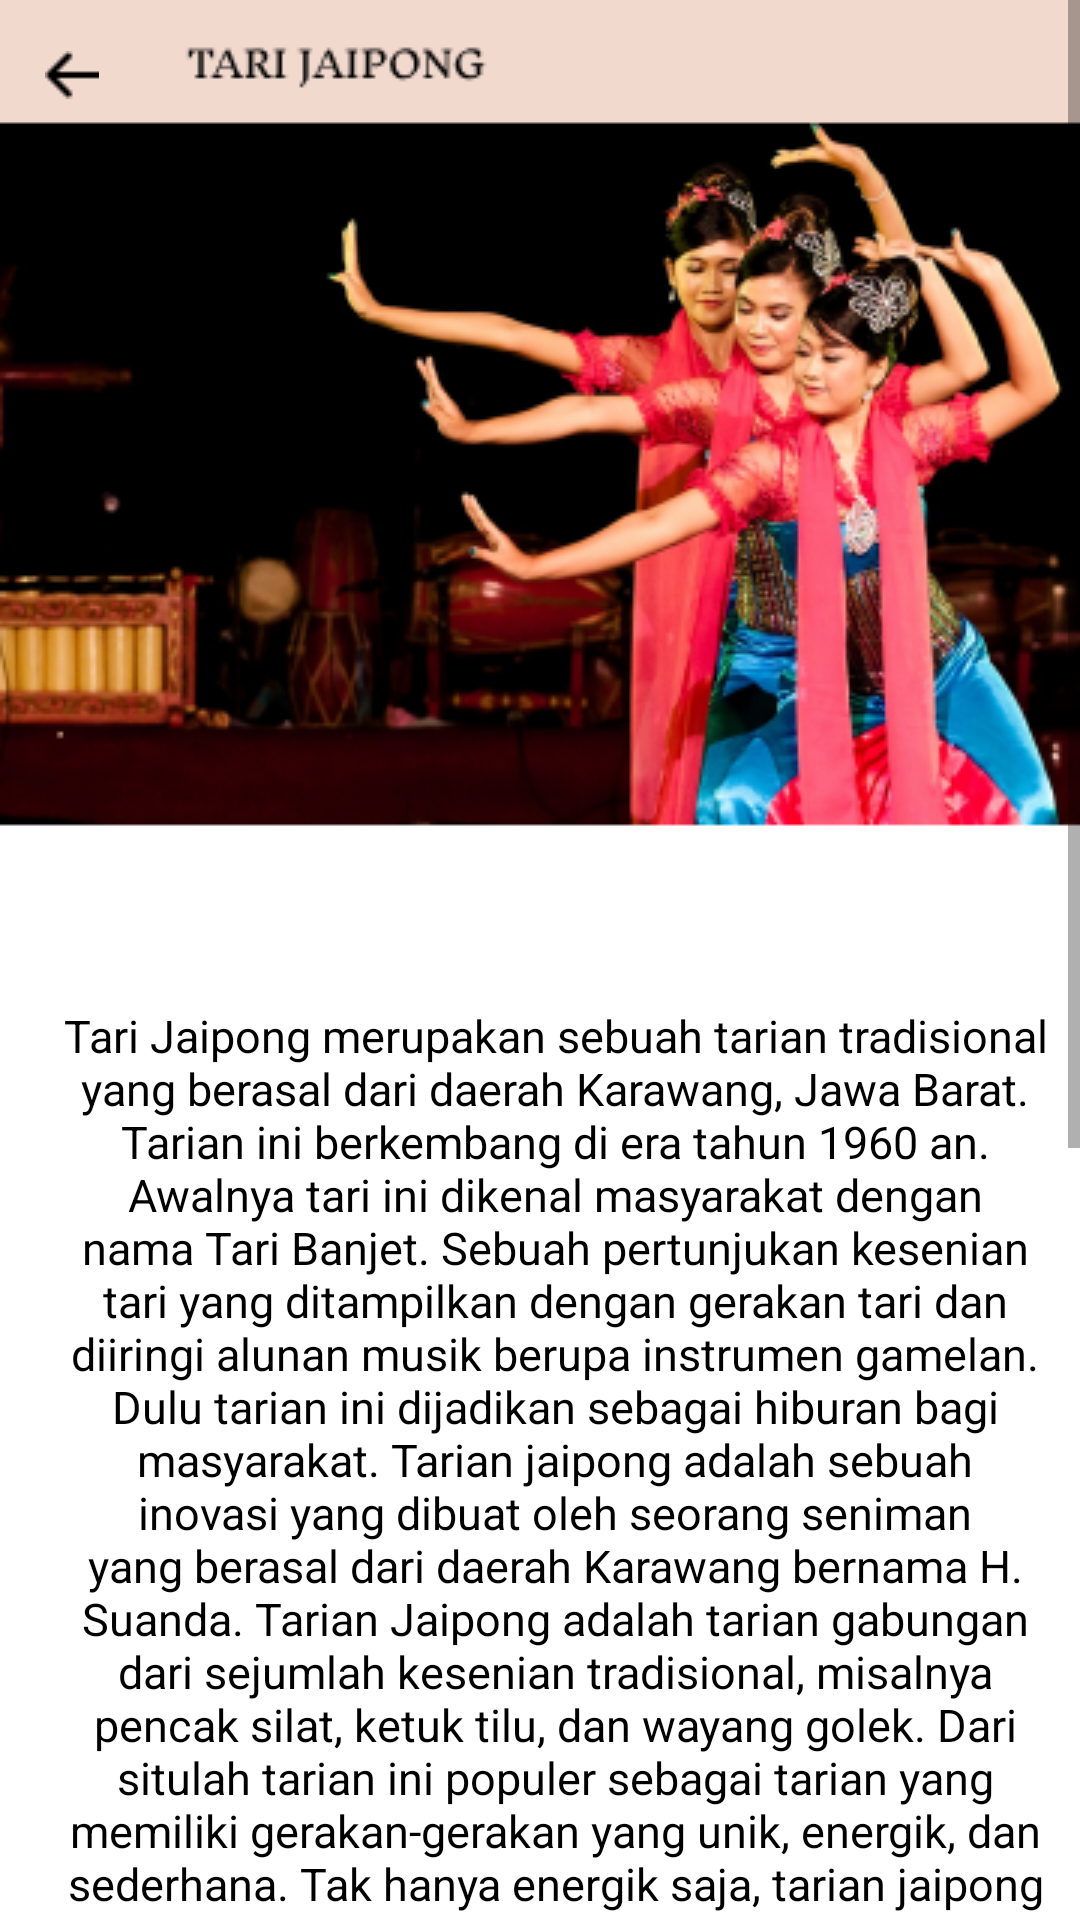

Locate icon controls on the screen. Image size 1080px×1920px, boxes as (x1, y1, x2, y2).
back: (45, 51, 99, 99)
